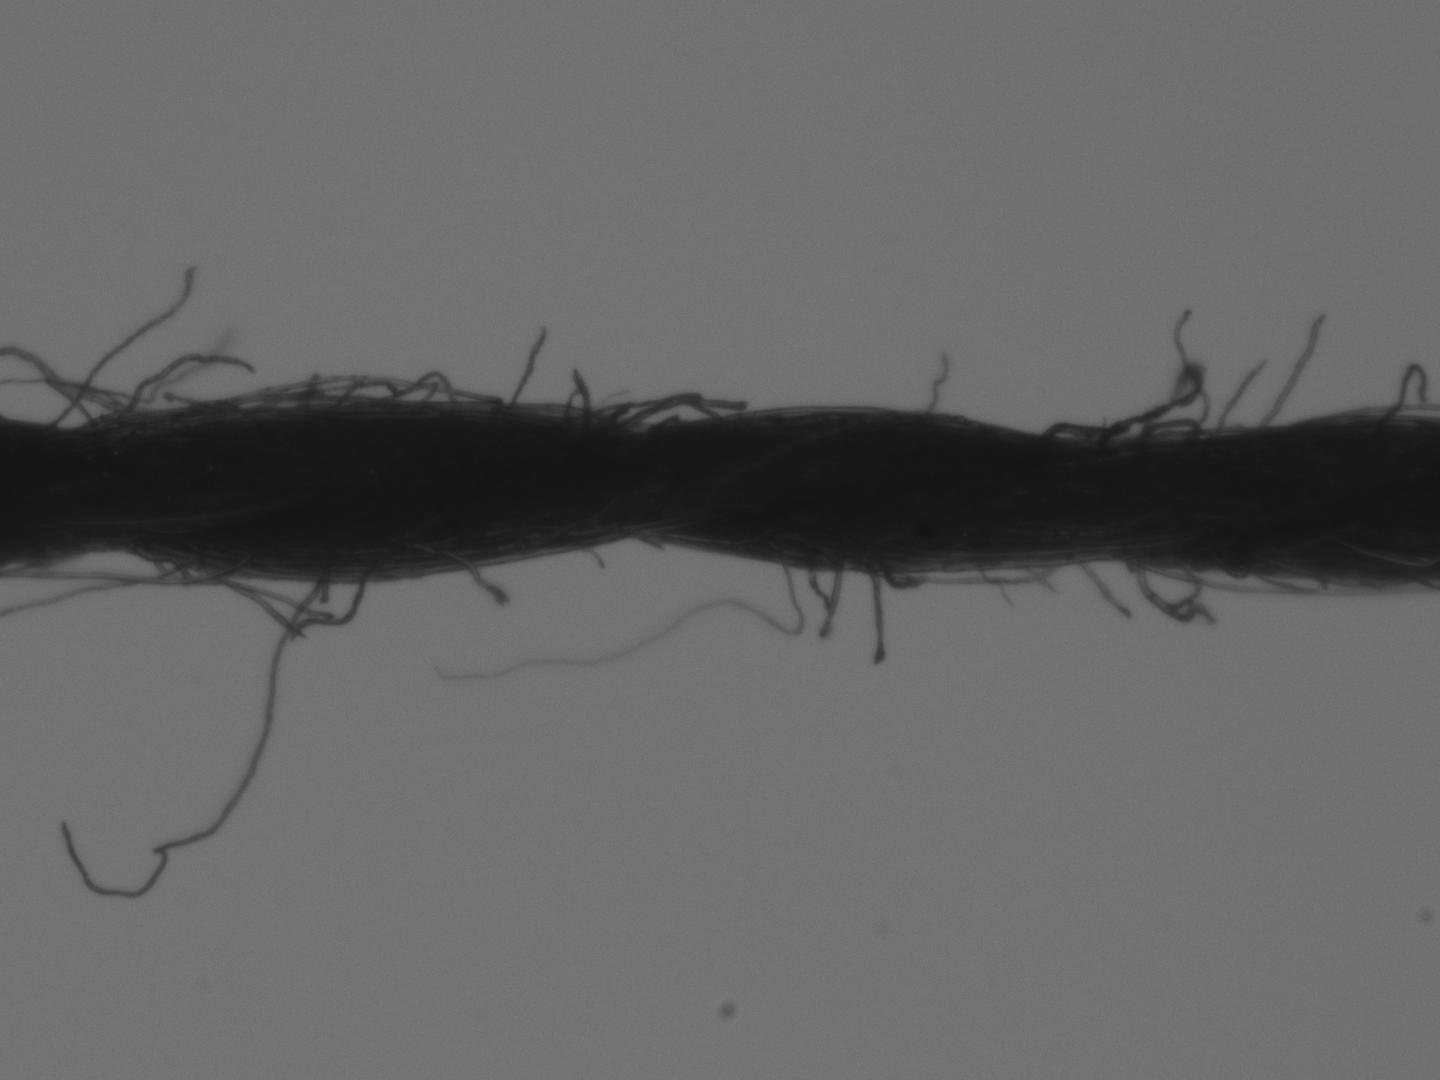loop_fiber: (324, 369, 448, 412), (1127, 551, 1198, 617), (882, 563, 1052, 589), (627, 390, 721, 433), (162, 555, 248, 582), (1140, 417, 1196, 447)
protruding_fiber: (49, 576, 337, 904), (39, 256, 200, 441), (1253, 311, 1327, 430), (505, 323, 551, 411), (461, 558, 507, 611), (866, 566, 887, 660), (921, 349, 949, 416)
